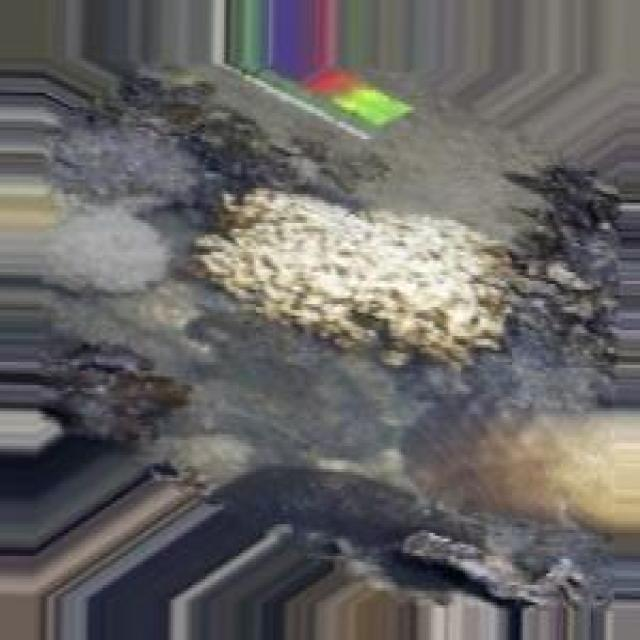Bleached: (200, 189, 509, 362)
